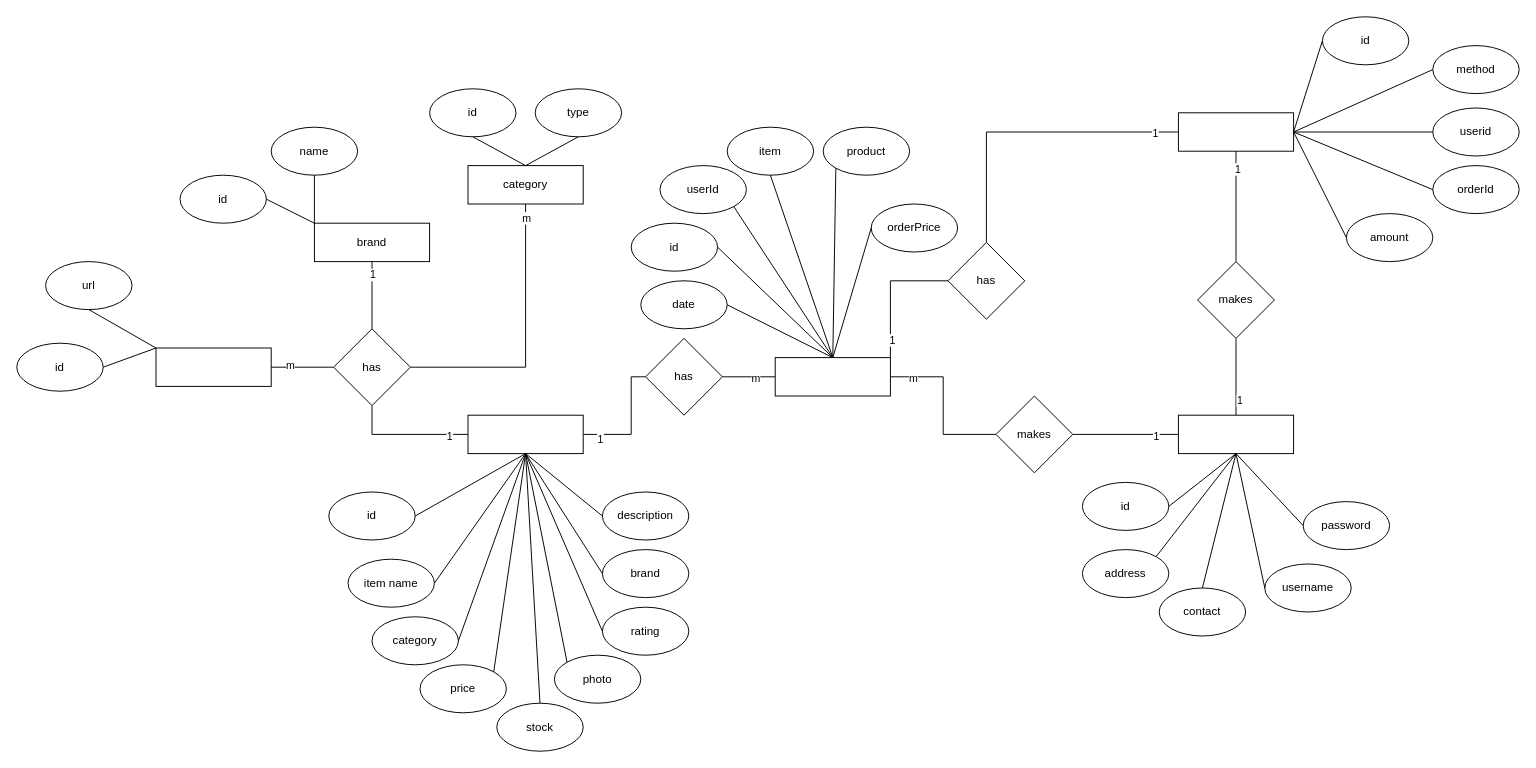
This 1536x768 diagram has some shape labels left out. Here are the shapes that lost their labels. From the top down, the box of each, then its label:
(1177, 112, 1294, 151): payment
(155, 347, 271, 386): photos
(774, 357, 890, 396): order
(467, 414, 583, 454): items
(1177, 414, 1294, 454): user
